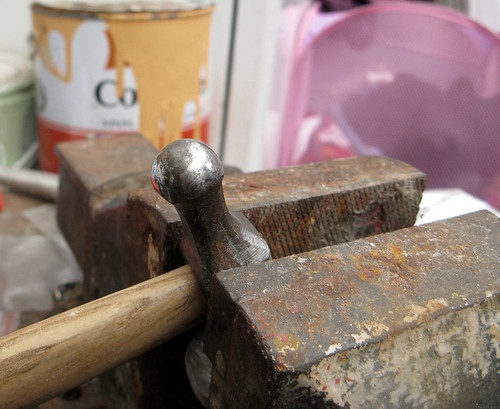hammer: (1, 139, 268, 399)
